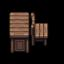Obstacle: (6, 7, 53, 58)
